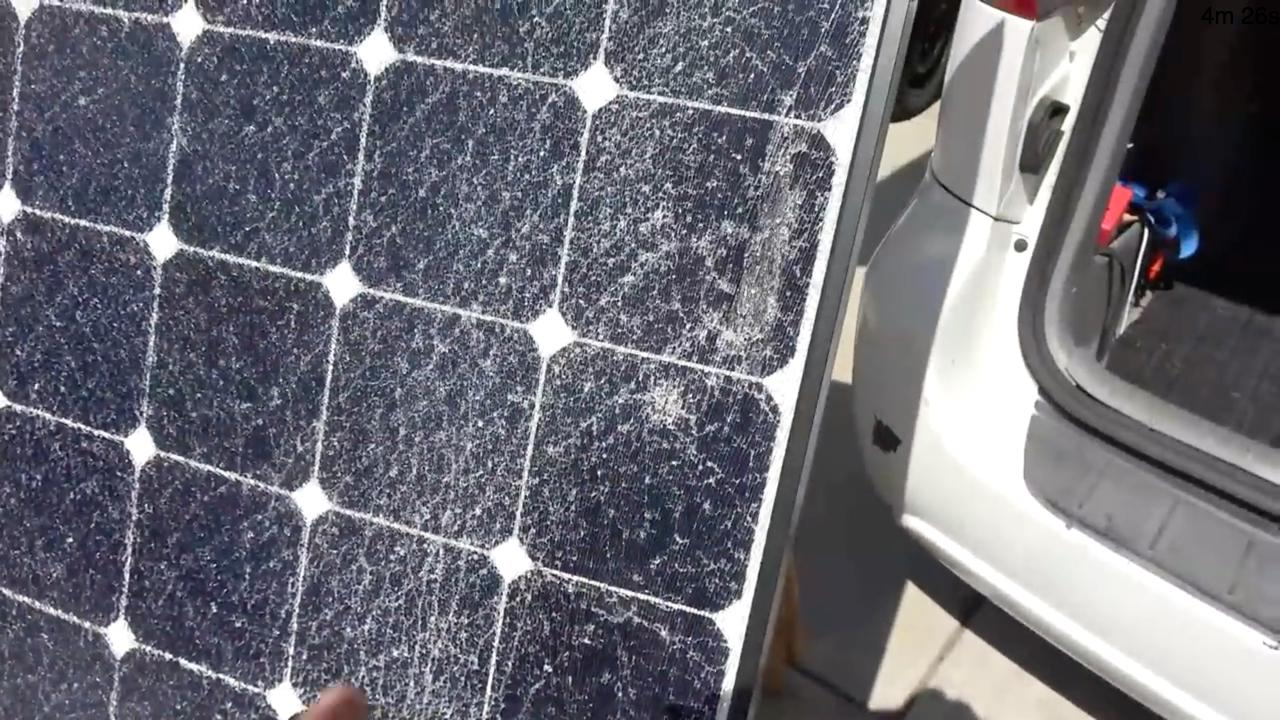Crack: (228, 4, 893, 389), (223, 383, 799, 680), (14, 10, 224, 679)
